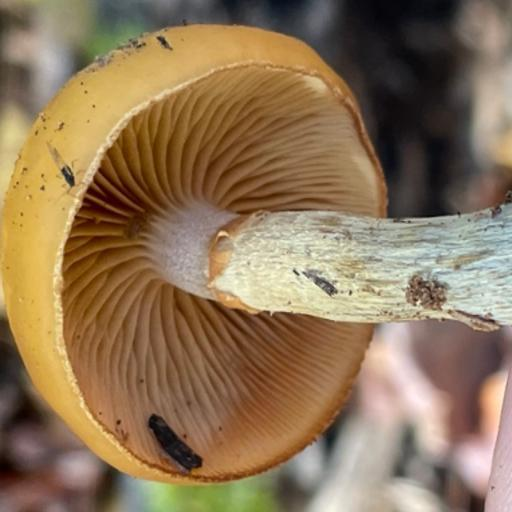mushroom: (3, 19, 440, 494)
